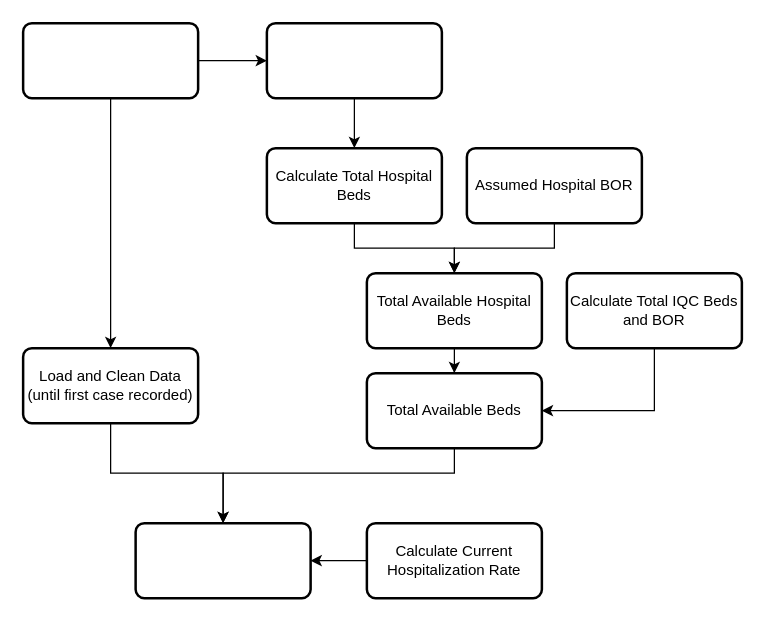
The diagram is 764 pixels wide and 620 high, and some of its shapes have lost their labels. Each missing label, with the centre of its shape:
Conduct Data Analysis: (x=222, y=560)
Extract BPTP and Population Variables: (x=353, y=60)
Extract historical data into CSV format: (x=110, y=60)
